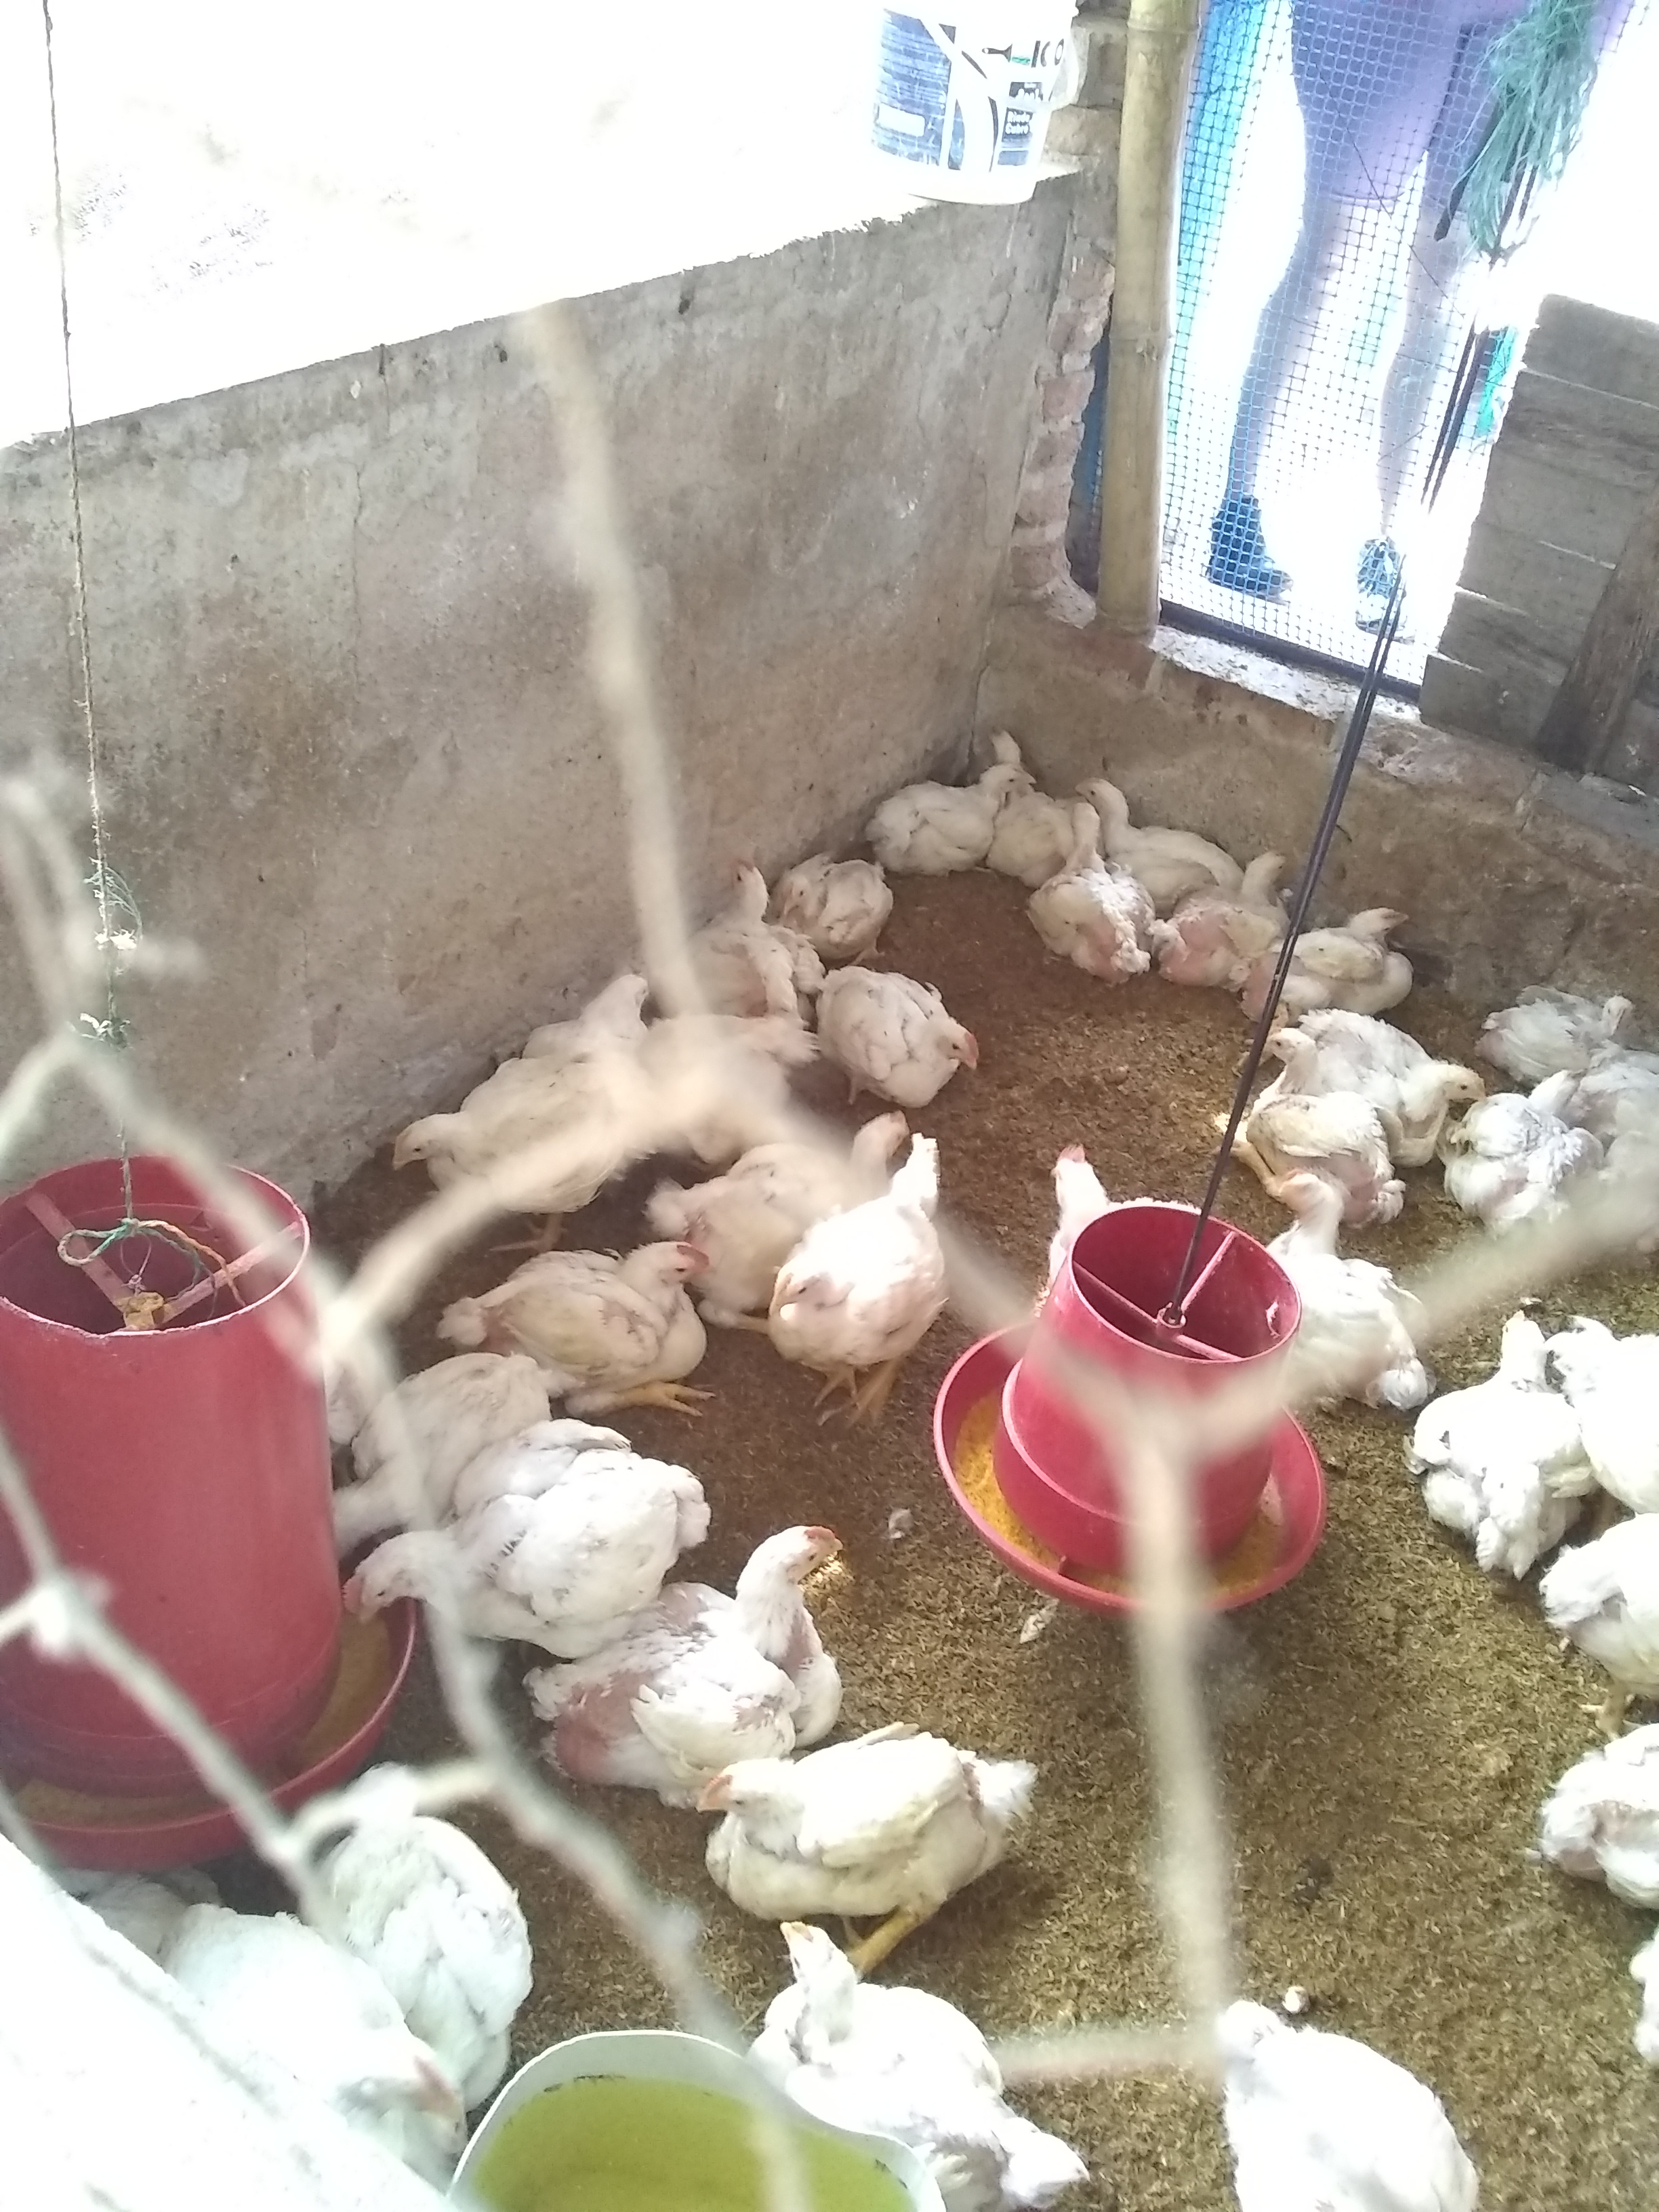Pollos: (687, 1730, 1011, 1930), (340, 1433, 650, 1632), (660, 1521, 847, 1737), (775, 1130, 945, 1359), (1427, 1308, 1589, 1534), (495, 1231, 725, 1385), (1263, 1172, 1408, 1371), (829, 977, 981, 1092), (1485, 1069, 1596, 1221), (390, 1069, 544, 1176), (875, 761, 1033, 855), (1256, 1028, 1363, 1162), (1046, 812, 1148, 946), (1277, 906, 1420, 1001), (1182, 846, 1297, 958), (713, 859, 796, 998), (1382, 1054, 1485, 1136), (1525, 991, 1643, 1049), (1073, 779, 1171, 848), (774, 855, 864, 923)
